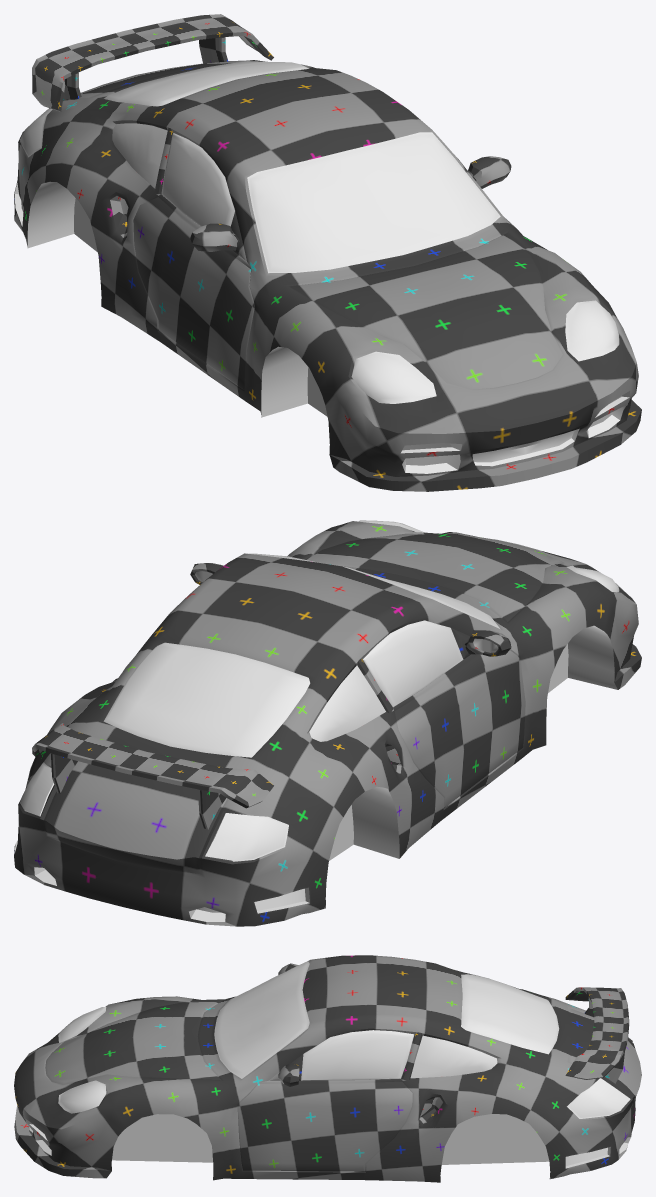
The model's file is Porsche_911_GT2_2003_3_Material.glb.
3 renders of one model, top to bottom at view 1: azimuth 30°, elevation 25°; view 2: azimuth 150°, elevation 25°; view 3: azimuth 270°, elevation 25°, orthographic. The views are drawn at different scales.
Parts seen in each view (by area): view 1: Body.001; view 2: Body.001; view 3: Body.001.
Boxes of the visible parts, bbox=[...] form: Body.001: bbox=[14, 14, 641, 491]; Body.001: bbox=[14, 520, 641, 926]; Body.001: bbox=[14, 955, 641, 1182].
Bounding box in the file's own units: 1.87 × 1.13 × 4.29.
3 materials, 1 textured.
